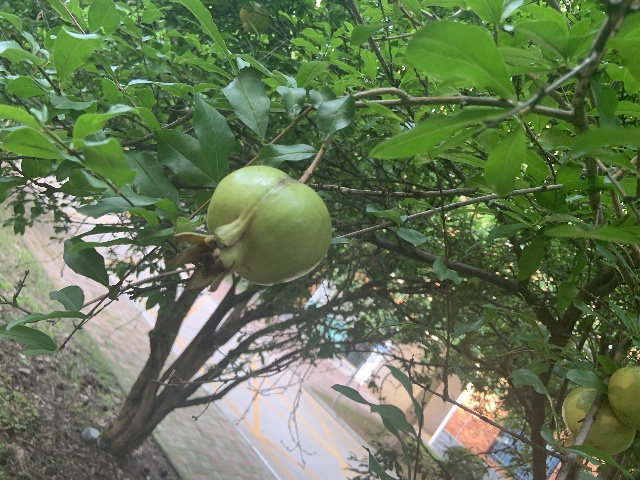mid-growth: (169, 165, 333, 295), (560, 386, 635, 471), (608, 366, 640, 430), (238, 1, 269, 36)
